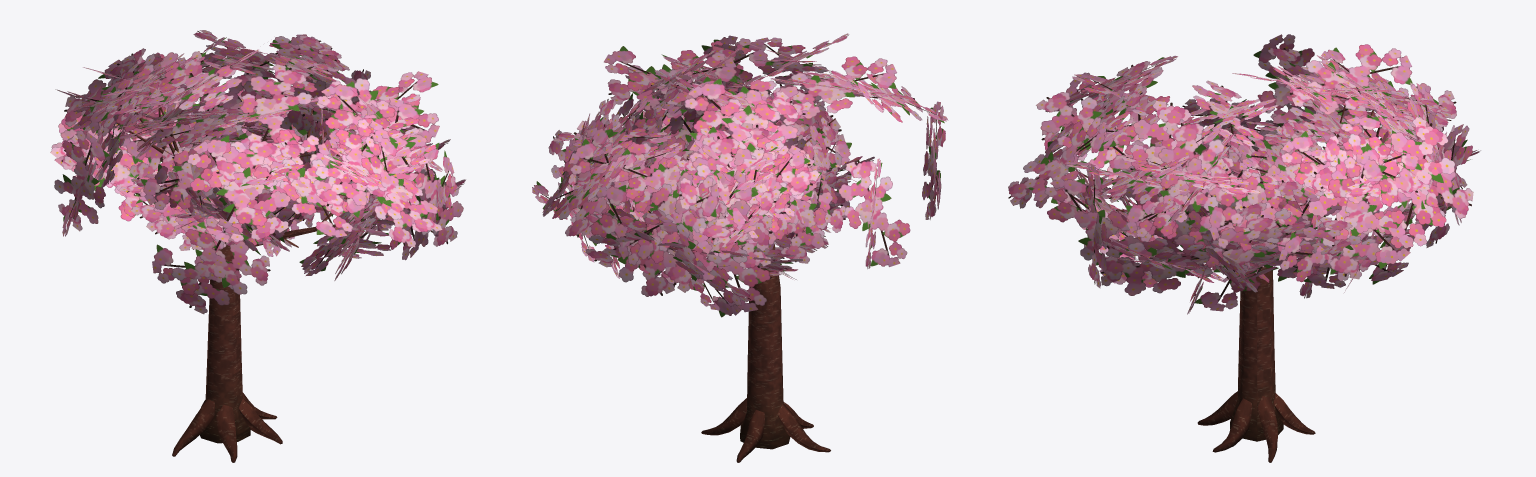
The model's file is tree_blossom_lod.glb.
The picture shows the model from 3 angles, left to right: view 1: azimuth 30°, elevation 25°; view 2: azimuth 150°, elevation 25°; view 3: azimuth 270°, elevation 25°; orthographic projection. The views are drawn at different scales.
Visible parts, largest first — view 1: Leaves, Trunk, Roots, Branches; view 2: Leaves, Trunk, Roots; view 3: Leaves, Trunk, Roots.
Boxes of the visible parts, <box> form: Leaves: <box>50,30,465,314</box>; Trunk: <box>200,242,250,443</box>; Roots: <box>172,392,282,462</box>; Branches: <box>117,80,347,251</box>; Leaves: <box>532,33,948,317</box>; Trunk: <box>740,244,790,449</box>; Roots: <box>701,398,830,462</box>; Leaves: <box>1008,34,1480,314</box>; Trunk: <box>1230,266,1283,441</box>; Roots: <box>1197,391,1315,462</box>.
Size of the model in its own units: 5.65 by 5.37 by 6.54.
2 materials, 2 textured.
